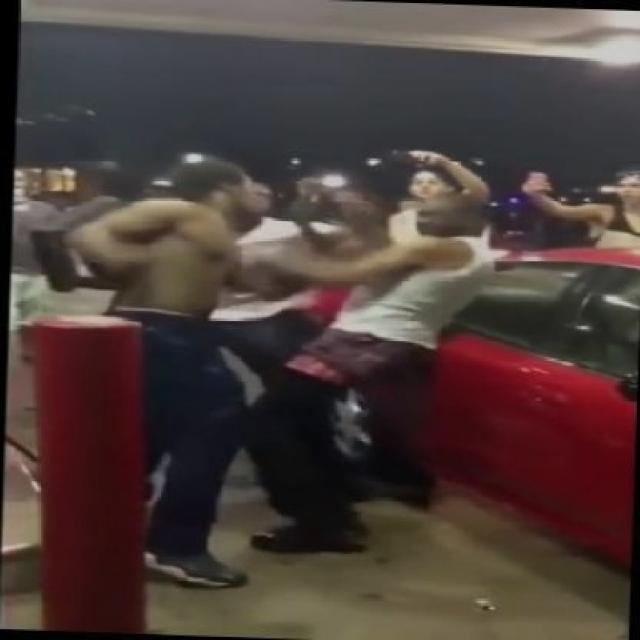fight: (65, 150, 496, 588)
